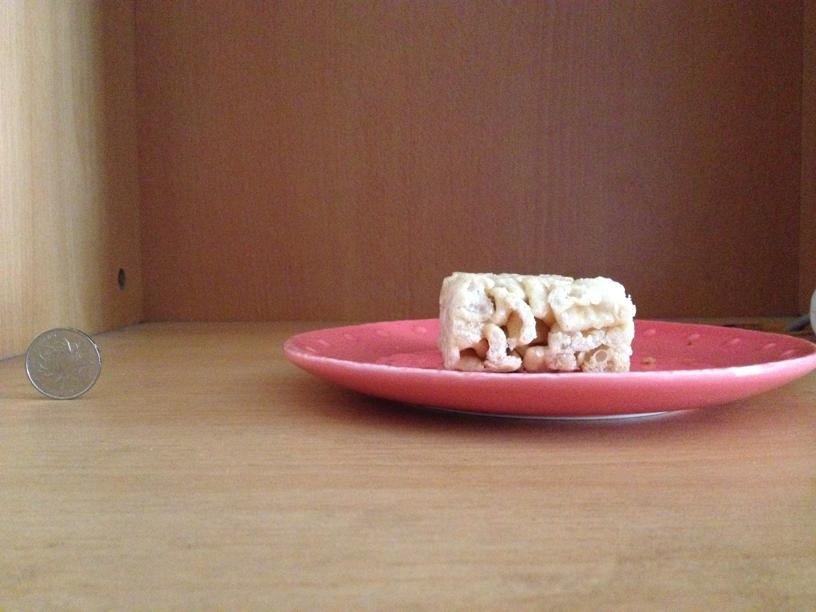coin: (23, 326, 100, 398)
sachima: (436, 272, 633, 374)
